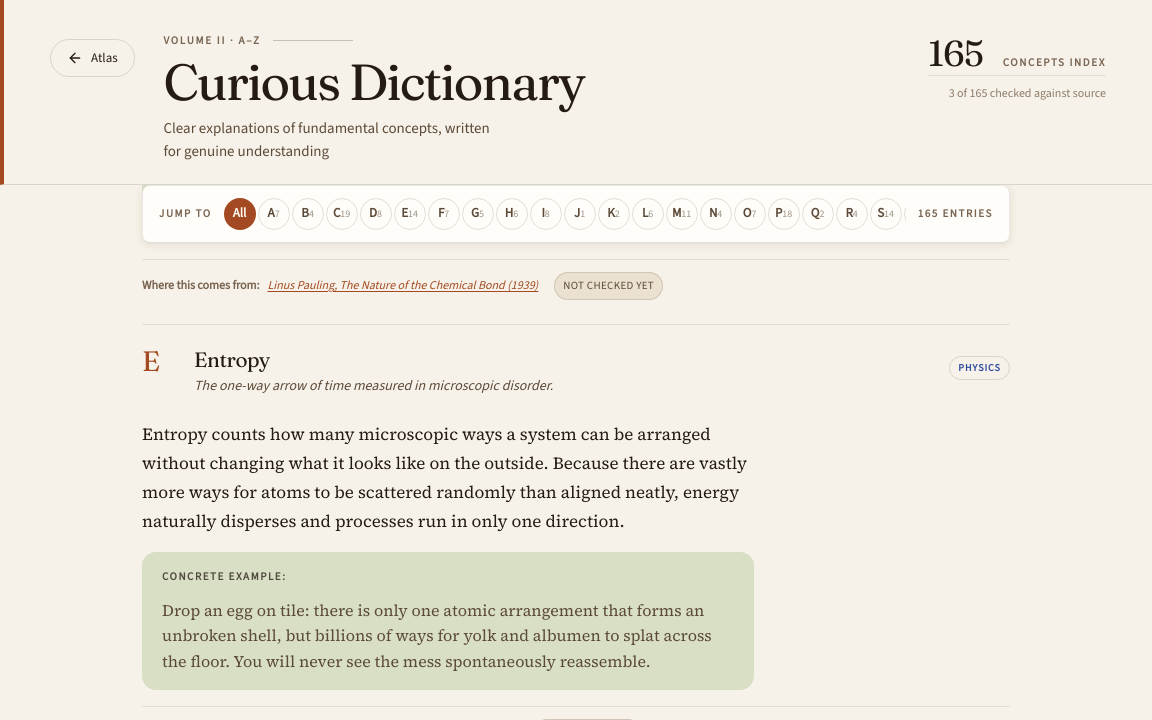
copying a link to an entry › says the clipboard was blocked rather than claiming a copy
The width and height of the screenshot is (1152, 720).
(page scrolled)
Click the heading "Entropy" at coordinates (232, 359), box top-left (194, 347), bottom-right (270, 372)
(page scrolled)
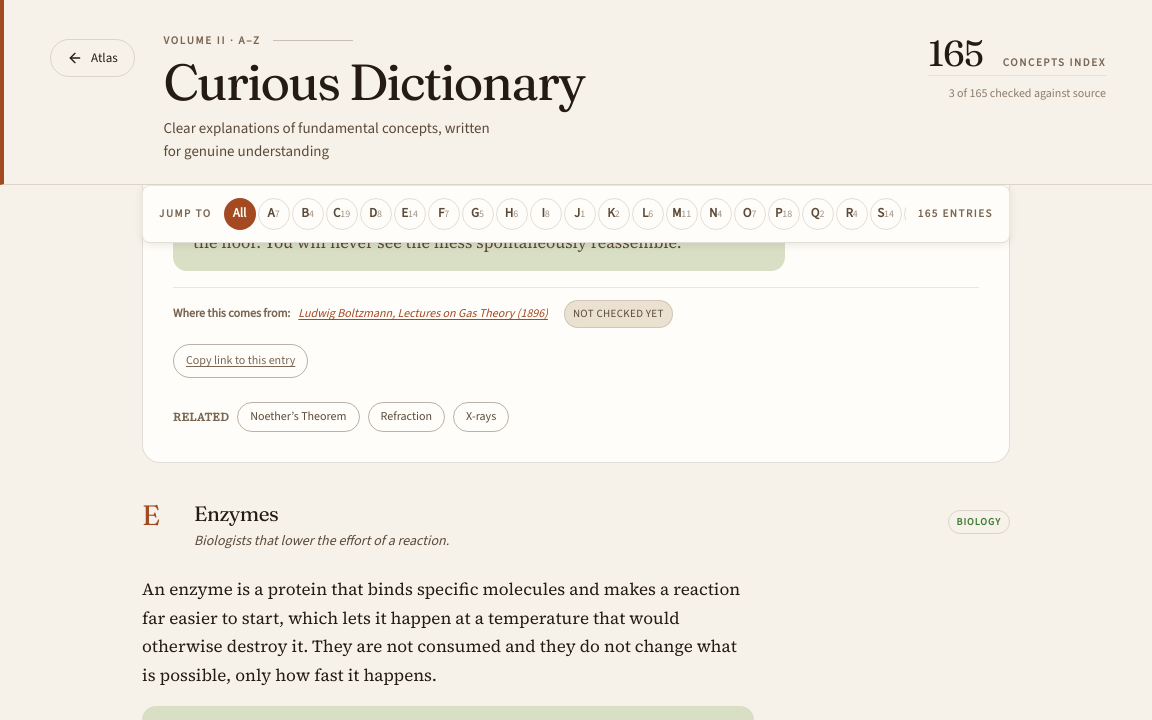
Click the button "Copy link to this entry" at coordinates (241, 361), box top-left (173, 344), bottom-right (308, 378)
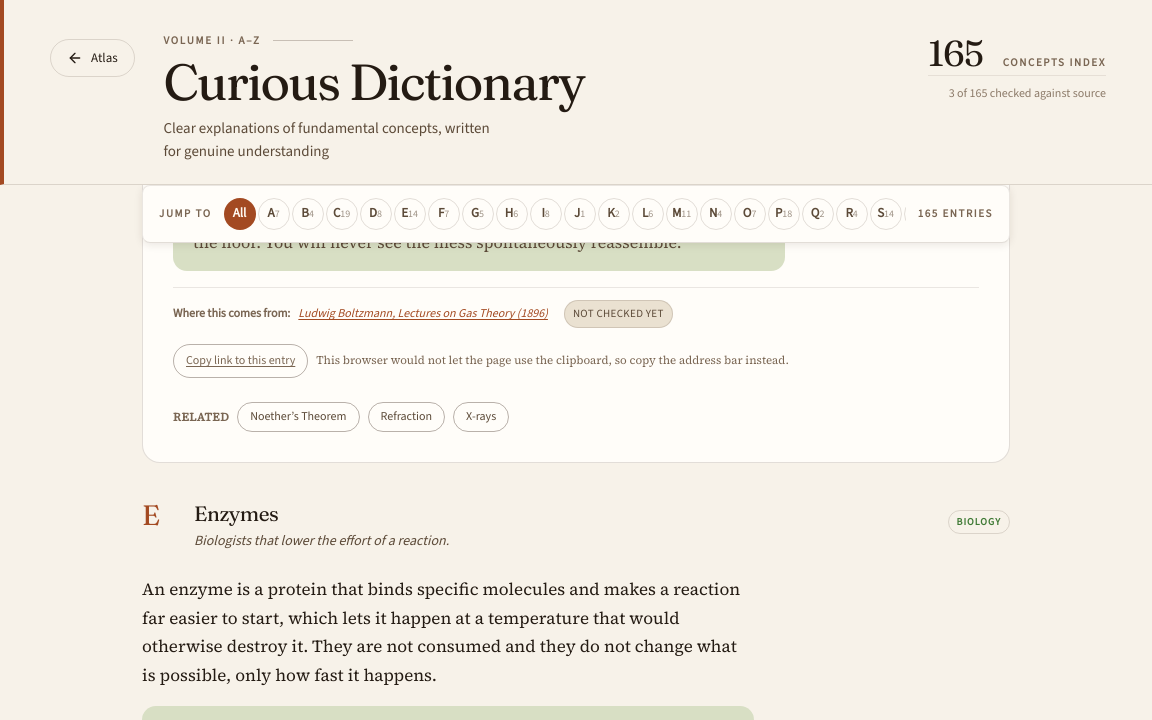
Now the text "would not let the page use the clipboard" is shown, box top-left (316, 352), bottom-right (789, 368)
